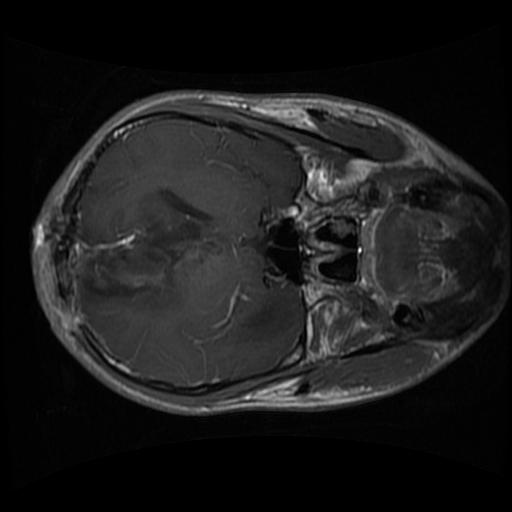glioma: (78, 186, 213, 304)
